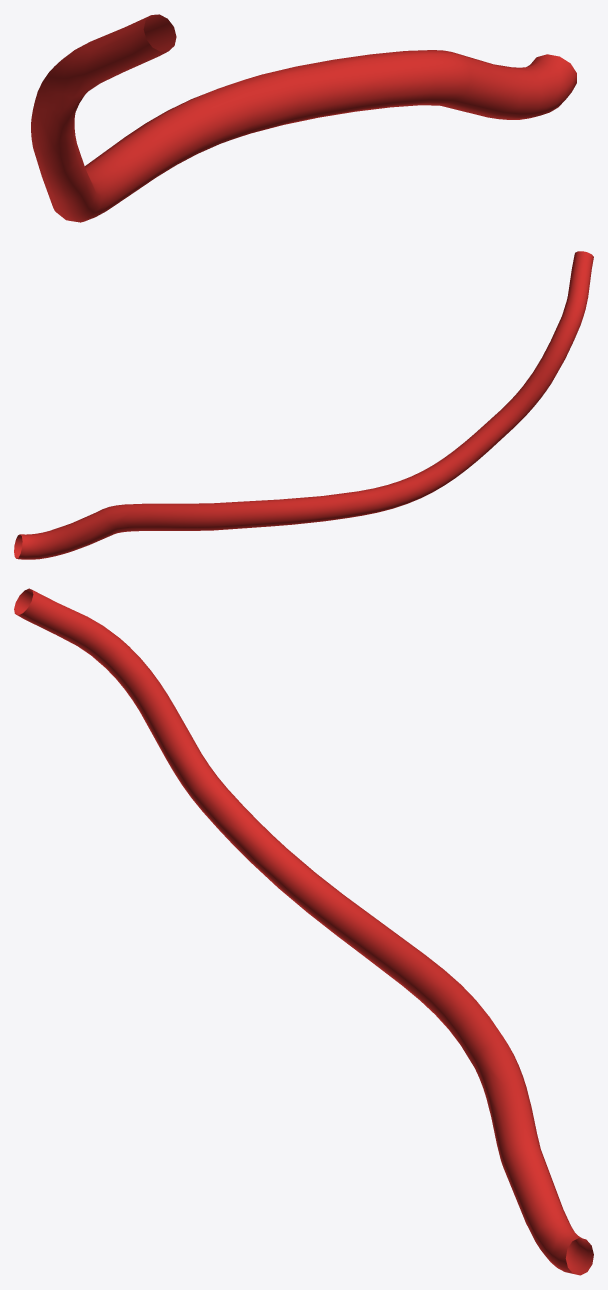
Rendered from circulatorio-inferior-petrosal-sinus-l.glb.
The picture shows the model from 3 angles, top to bottom: view 1: azimuth 30°, elevation 25°; view 2: azimuth 150°, elevation 25°; view 3: azimuth 270°, elevation 25°; orthographic projection. The views are drawn at different scales.
Parts seen in each view (by area): view 1: Inferior petrosal sinus.l; view 2: Inferior petrosal sinus.l; view 3: Inferior petrosal sinus.l.
Part boxes in pixels (<box>): Inferior petrosal sinus.l: <box>31,14,576,222</box>; Inferior petrosal sinus.l: <box>14,251,593,559</box>; Inferior petrosal sinus.l: <box>14,588,593,1275</box>.
Size of the model in its own units: 0.038 by 0.0236 by 0.0306.
